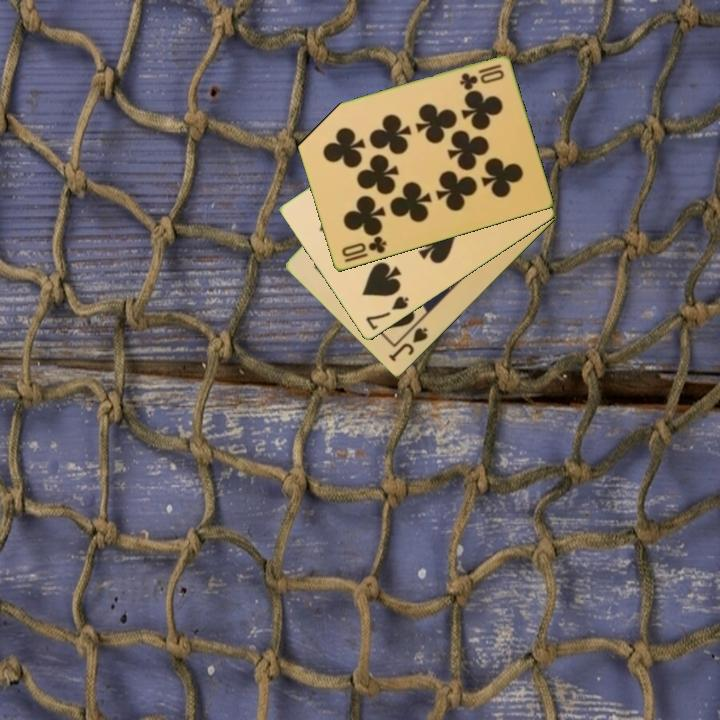10c: (456, 61, 507, 92), (338, 233, 389, 260)
7s: (362, 293, 412, 334)
Js: (385, 324, 431, 365)
